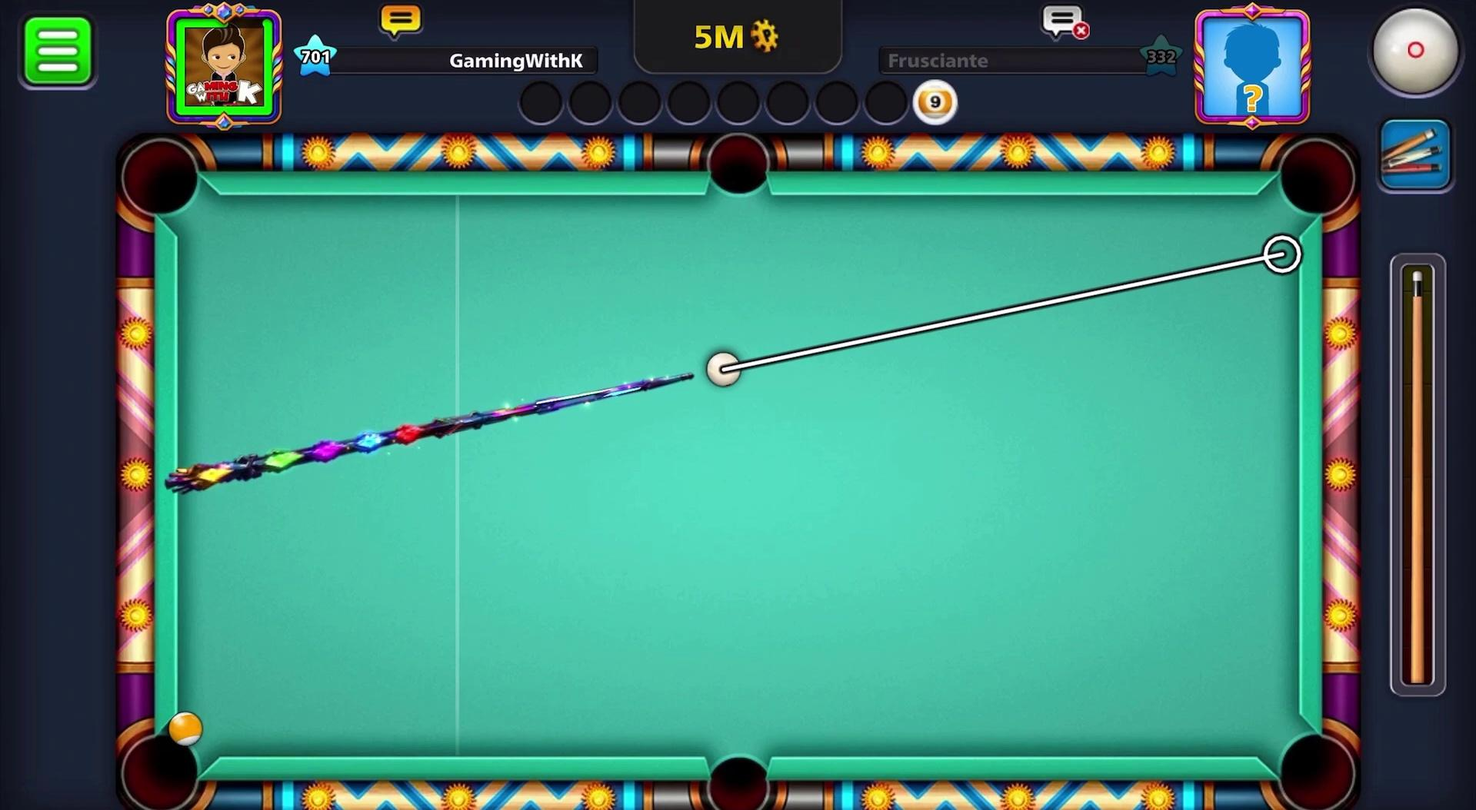Ball: (164, 708, 206, 746)
Force: (1384, 251, 1452, 699)
Guideline: (173, 192, 1298, 761), (707, 234, 1304, 385)
Hole: (108, 128, 216, 231), (1263, 127, 1368, 232), (111, 716, 211, 809), (1264, 719, 1364, 809), (685, 735, 786, 809), (692, 128, 784, 207)
Spin: (1345, 0, 1475, 110)
White: (698, 347, 745, 392)
